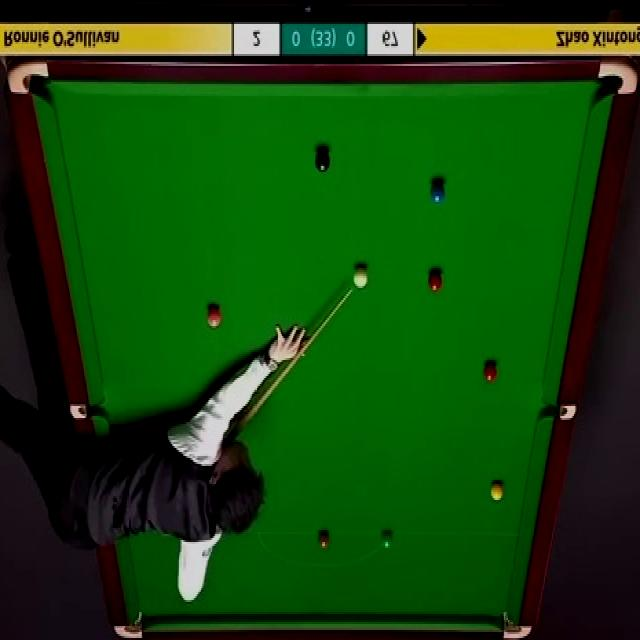pocket: (597, 56, 640, 98), (10, 55, 48, 97), (116, 604, 150, 638), (502, 608, 532, 640), (540, 403, 576, 422), (67, 405, 105, 420)
